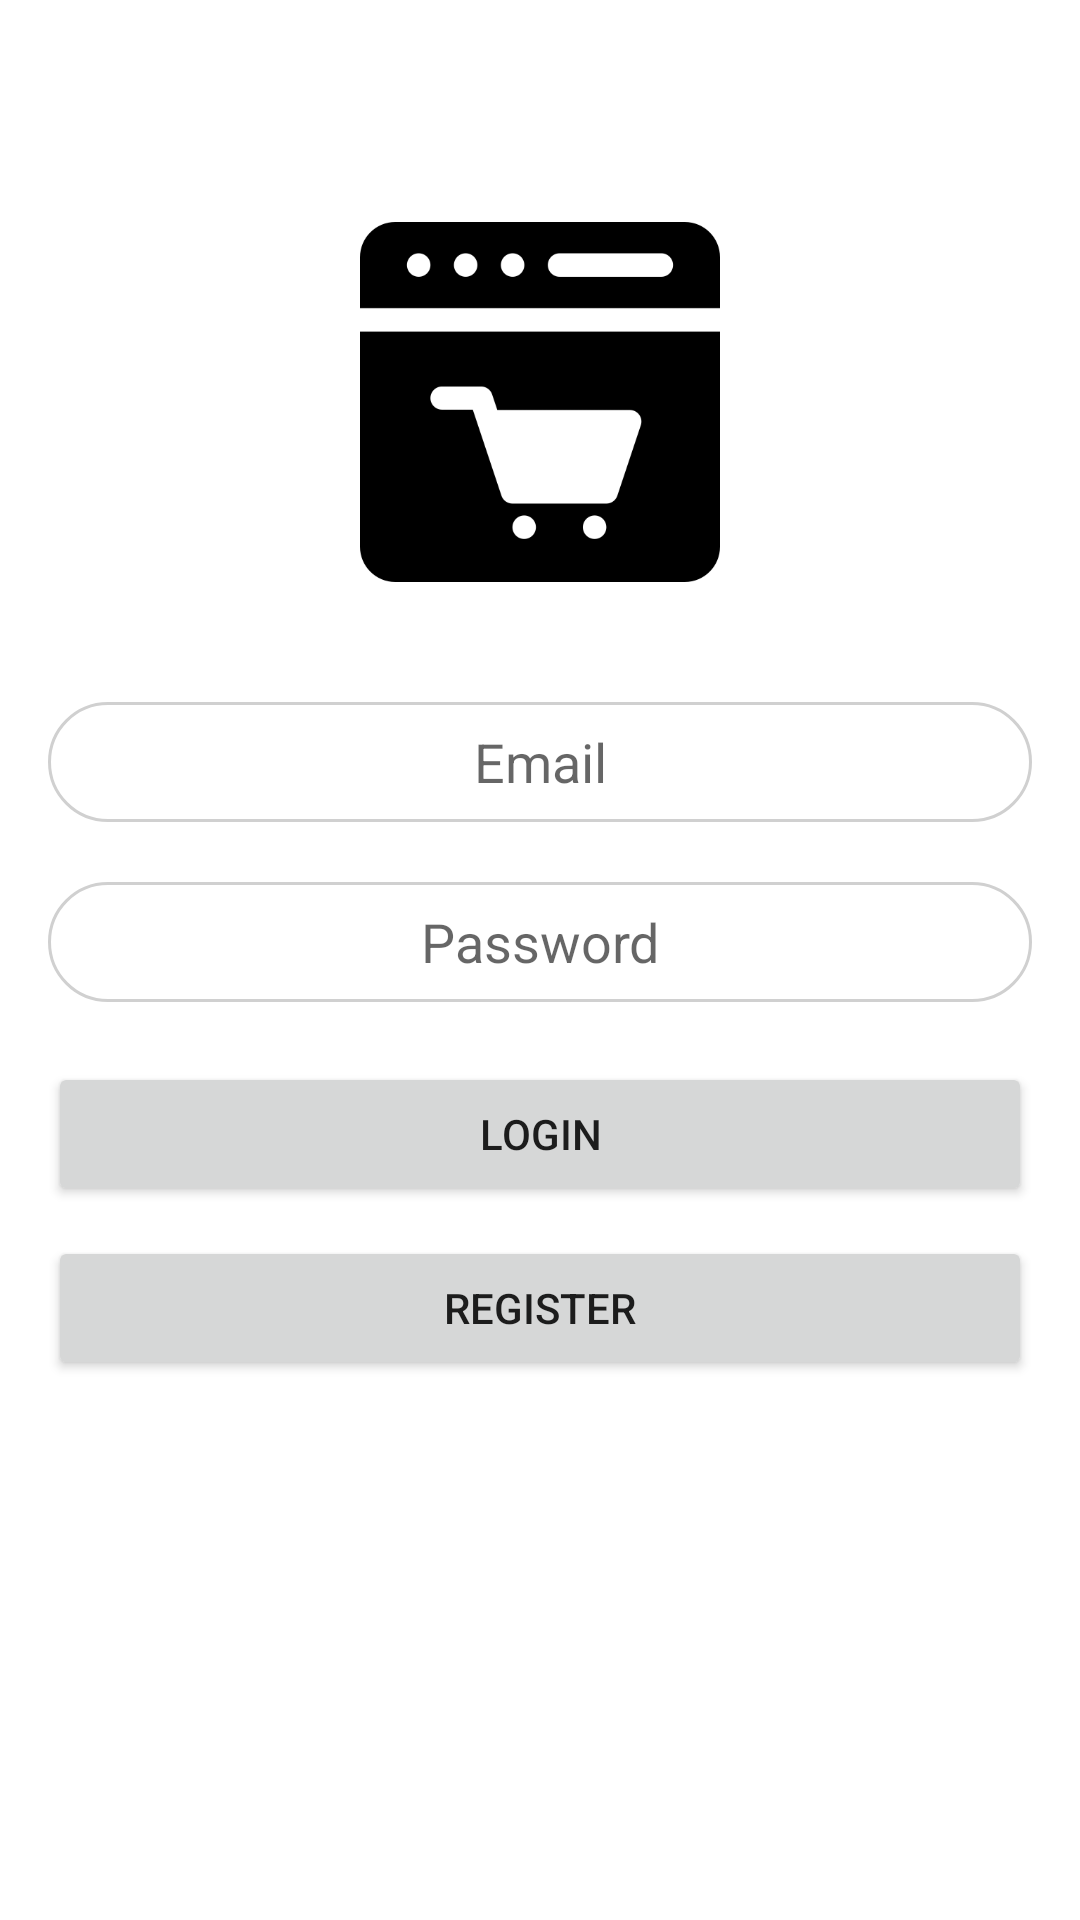

Icon click points for this 1080*1920 phone screenshot, format [x,y]:
shop: [540,402]
